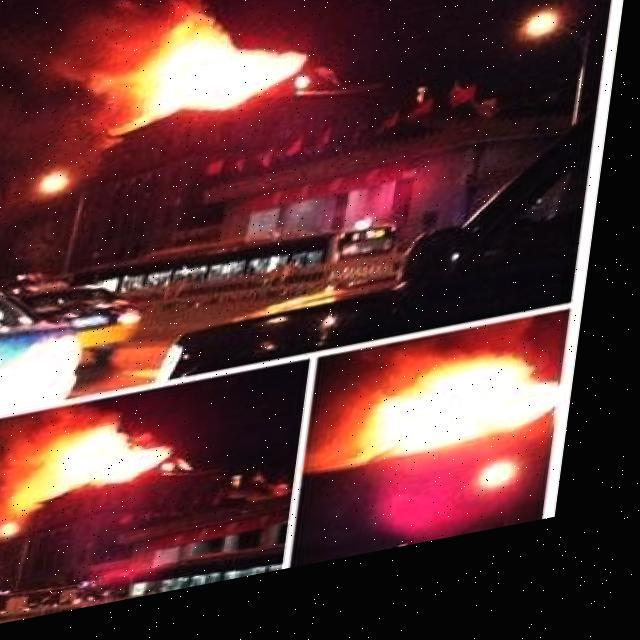Fire: (114, 4, 322, 140), (373, 364, 568, 485), (22, 417, 192, 519)
